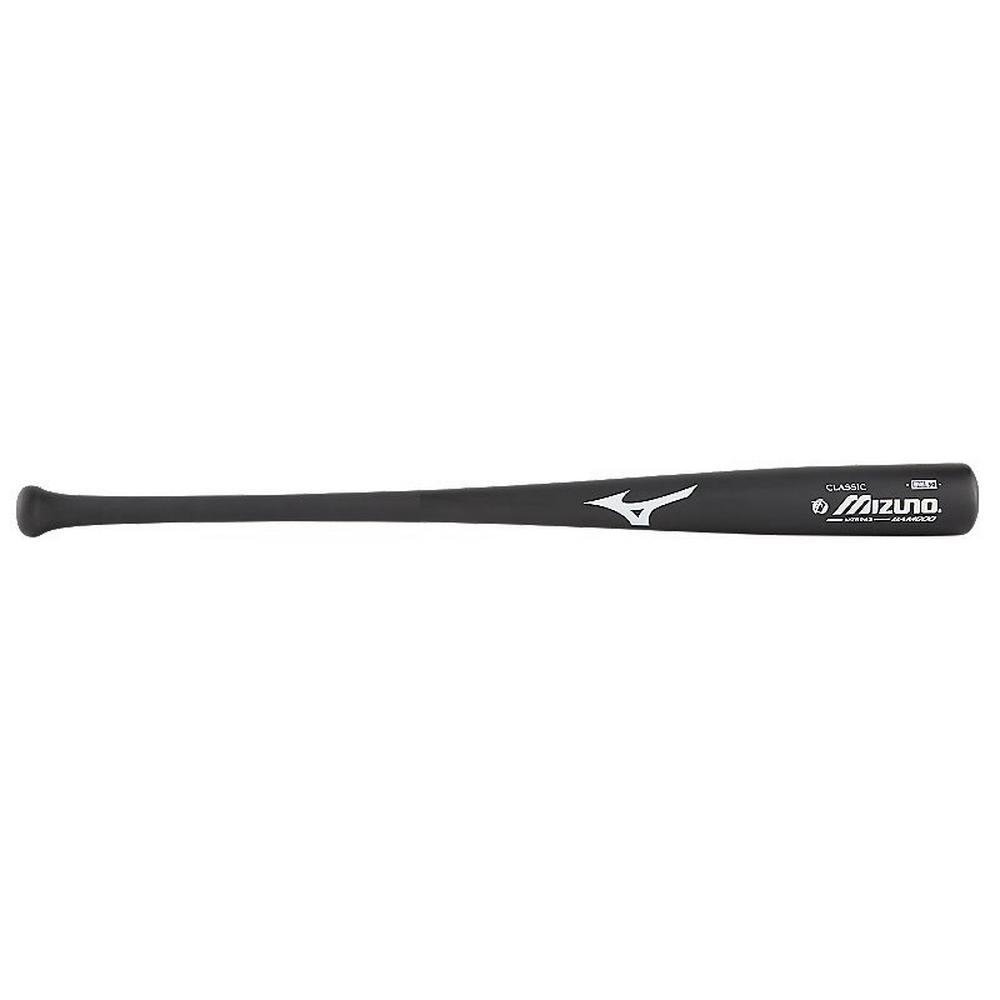bat: (16, 461, 977, 549)
